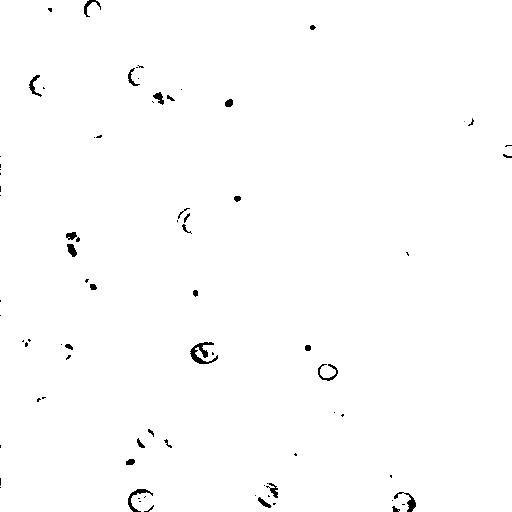micro-algae: (55, 85, 161, 196), (57, 400, 146, 488), (309, 330, 369, 395), (116, 394, 176, 455), (213, 416, 271, 475), (72, 107, 122, 170), (49, 249, 108, 298), (357, 78, 403, 126), (468, 456, 511, 507), (293, 3, 329, 40), (174, 205, 211, 240), (25, 386, 62, 419), (185, 439, 218, 472), (160, 75, 192, 108), (83, 115, 115, 147), (156, 38, 190, 68), (453, 106, 484, 136), (317, 401, 354, 426), (488, 18, 511, 58), (382, 461, 411, 492), (156, 430, 185, 460), (253, 481, 283, 510), (126, 486, 158, 512), (182, 279, 208, 310), (77, 270, 106, 297), (28, 72, 56, 99), (190, 341, 221, 365), (291, 333, 319, 359), (389, 488, 418, 512), (387, 1, 438, 14), (126, 62, 152, 87), (60, 240, 88, 263), (135, 424, 158, 452), (15, 331, 38, 358), (35, 3, 60, 27), (95, 360, 120, 384), (281, 443, 307, 465), (122, 453, 146, 475), (61, 225, 86, 246), (263, 95, 286, 117), (53, 342, 76, 364), (219, 94, 241, 116), (317, 363, 340, 382), (405, 240, 426, 260), (84, 1, 104, 19), (445, 78, 461, 95), (228, 192, 246, 206), (501, 142, 512, 160), (328, 1, 348, 9)
